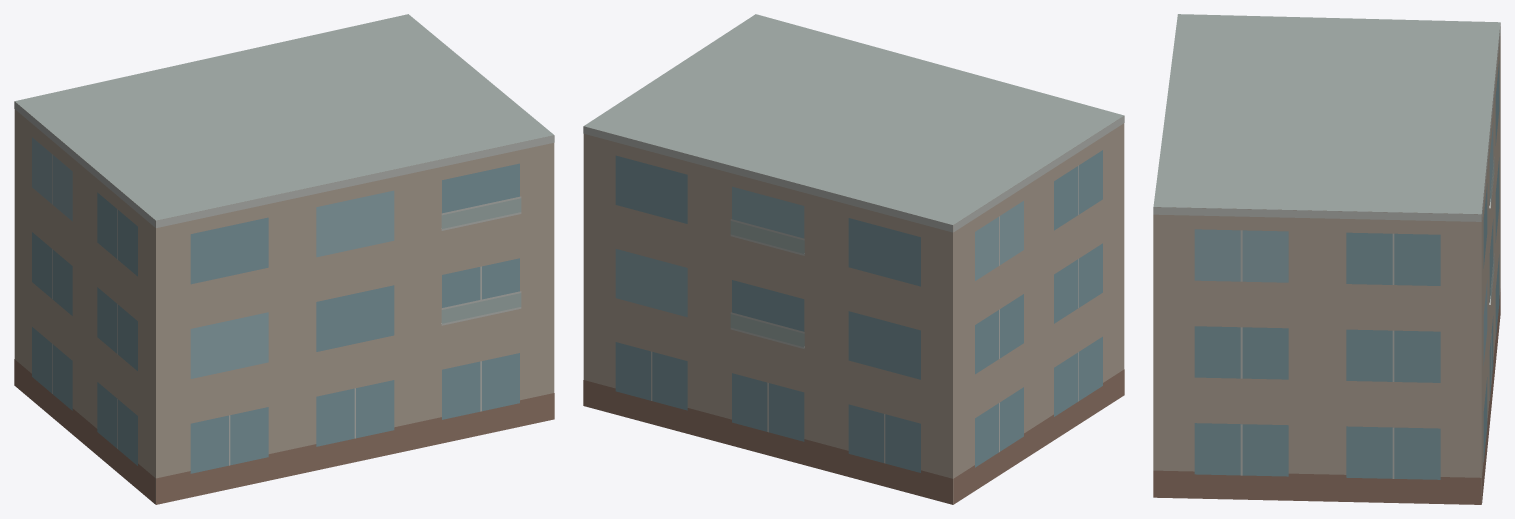
Rendered from survey-upis-32561242.glb.
3 views of the same model, side by side, from view 1: azimuth 30°, elevation 25°; view 2: azimuth 150°, elevation 25°; view 3: azimuth 270°, elevation 25° (orthographic). The views are drawn at different scales.
Visible parts, largest first — view 1: survey-upis-32561242.tmp; view 2: survey-upis-32561242.tmp; view 3: survey-upis-32561242.tmp.
Part boxes in pixels (x1,y1,x2,y2): survey-upis-32561242.tmp: (14,14,554,504); survey-upis-32561242.tmp: (583,14,1124,504); survey-upis-32561242.tmp: (1153,14,1500,504).
Size of the model in its own units: 13.52 by 9.15 by 9.92.
